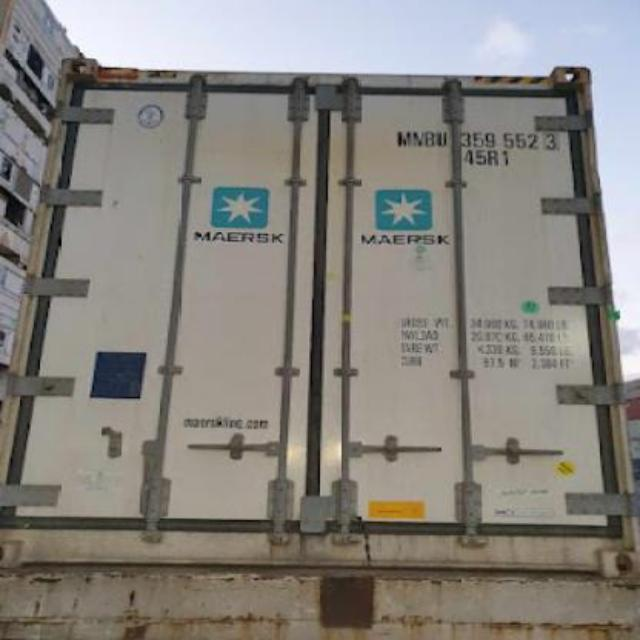2: (528, 128, 542, 150)
3: (542, 132, 560, 150), (460, 130, 472, 150)
5: (514, 128, 528, 150), (472, 130, 484, 150), (504, 130, 514, 148)
9: (484, 130, 498, 150)
B: (424, 126, 438, 150)
M: (396, 128, 412, 148)
N: (412, 126, 424, 150)
U: (436, 126, 449, 150)
